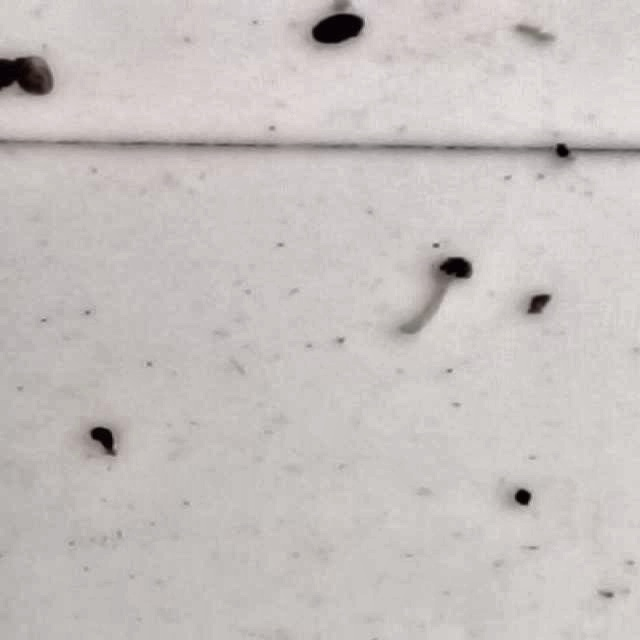varroa: (11, 53, 58, 97), (312, 13, 368, 46)
